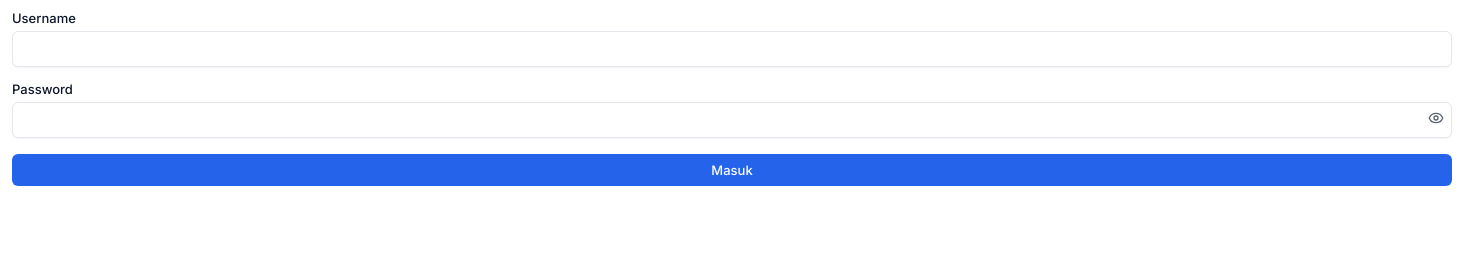
Test case: LoginForm › shows the lockout wait and disables the button
Type "admin" into the field labelled "Username". click: coordinates (732, 49)
box: [12,31,1452,67]
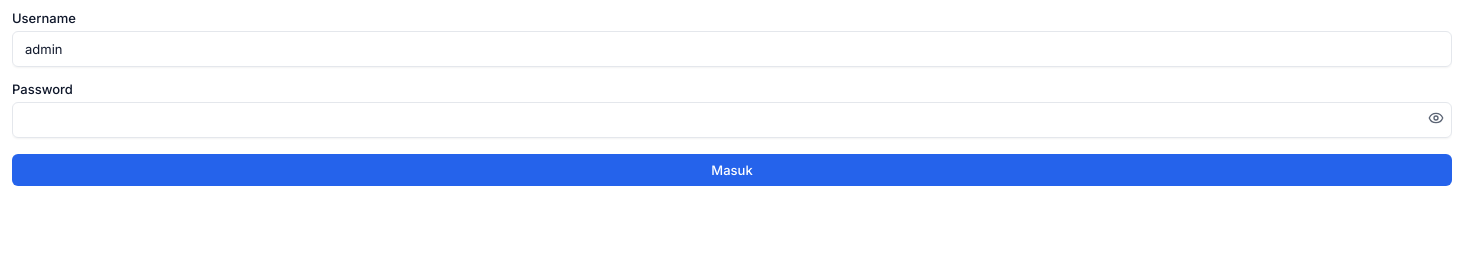
Type "x" into the password field labelled "Password". click: coordinates (732, 120)
box: [12,102,1452,138]
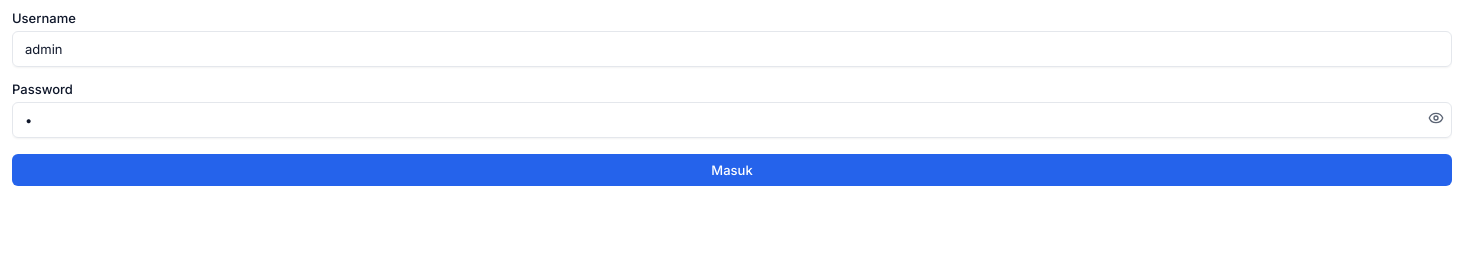
Click the button "Masuk". click: coordinates (732, 170)
box: [12,154,1452,186]
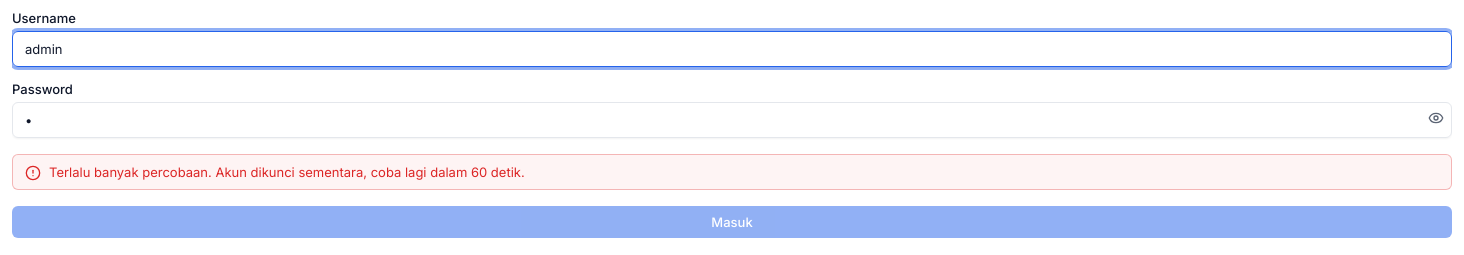
Now the message shows "60 detik", box [49,164,525,180]
Now the button "Masuk" is disabled, box [12,206,1452,238]
